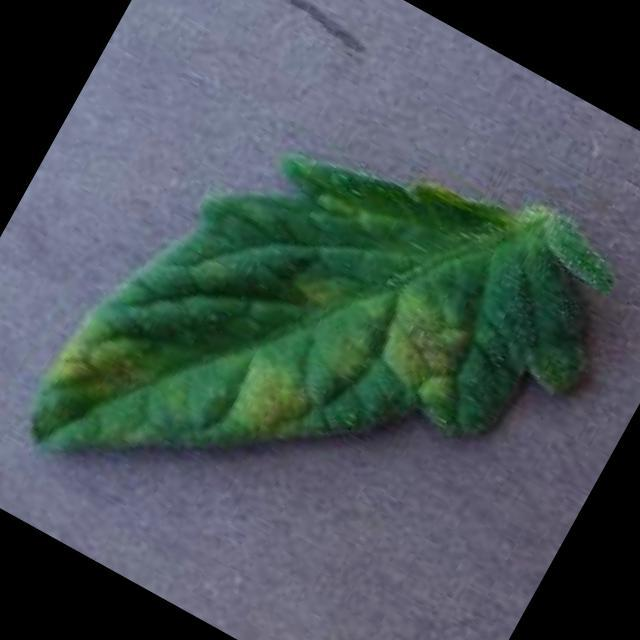Tomato mold leaf: (12, 36, 640, 640)
